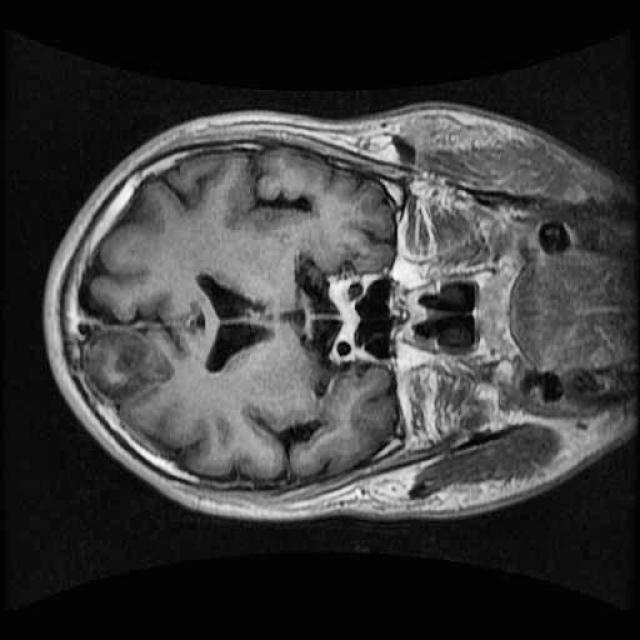Tumor: (72, 308, 192, 419)
